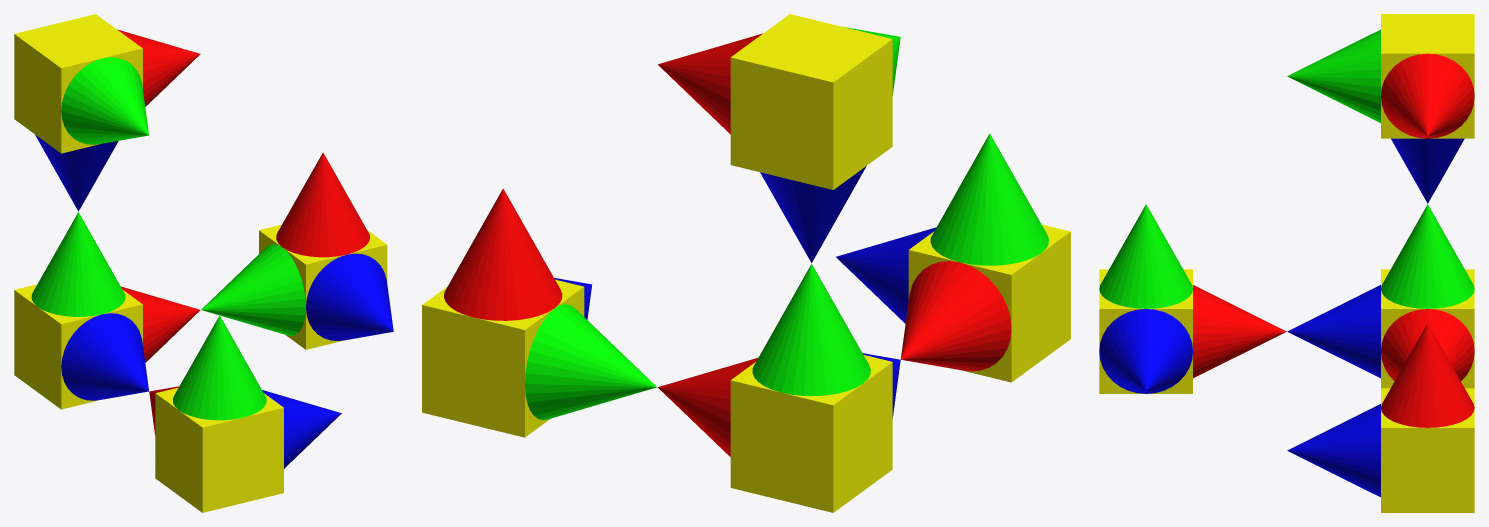
File: Axis1.glb
3 views of the same model, side by side, from view 1: azimuth 30°, elevation 25°; view 2: azimuth 150°, elevation 25°; view 3: azimuth 270°, elevation 25° (orthographic). The views are drawn at different scales.
Visible parts, largest first — view 1: Cube.001, Cube.003, Cube, Cube.002; view 2: Cube.002, Cube, Cube.003, Cube.001; view 3: Cube.003, Cube.001, Cube.002, Cube.
Part boxes in pixels (bbox=[...]): Cube.001: bbox=[201, 152, 393, 349]; Cube.003: bbox=[149, 315, 341, 512]; Cube: bbox=[14, 212, 200, 409]; Cube.002: bbox=[14, 14, 200, 211]; Cube.002: bbox=[658, 14, 900, 262]; Cube: bbox=[658, 264, 900, 512]; Cube.003: bbox=[836, 133, 1070, 382]; Cube.001: bbox=[422, 188, 656, 437]; Cube.003: bbox=[1099, 204, 1286, 393]; Cube.001: bbox=[1287, 323, 1474, 512]; Cube.002: bbox=[1287, 14, 1474, 203]; Cube: bbox=[1287, 204, 1474, 388].
Size of the model in its own units: 8 by 8 by 8.
